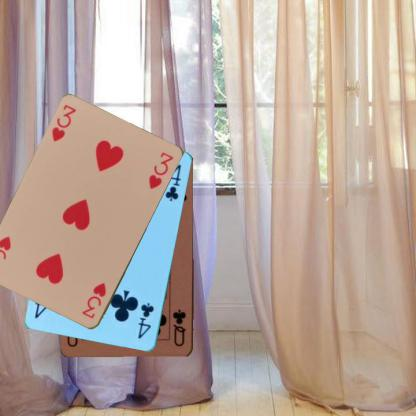3h: (49, 102, 78, 144), (80, 280, 107, 320)
4c: (135, 300, 156, 340)
Qc: (171, 307, 188, 348)
